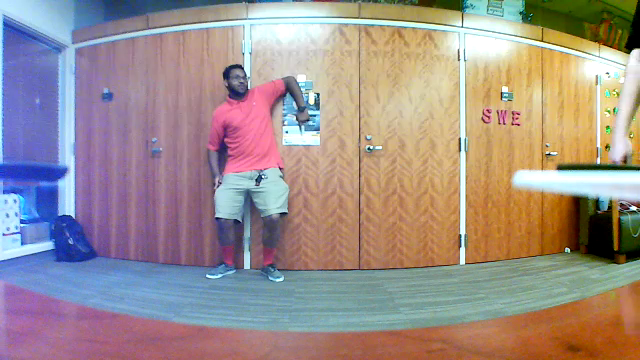down: (293, 105, 317, 143)
